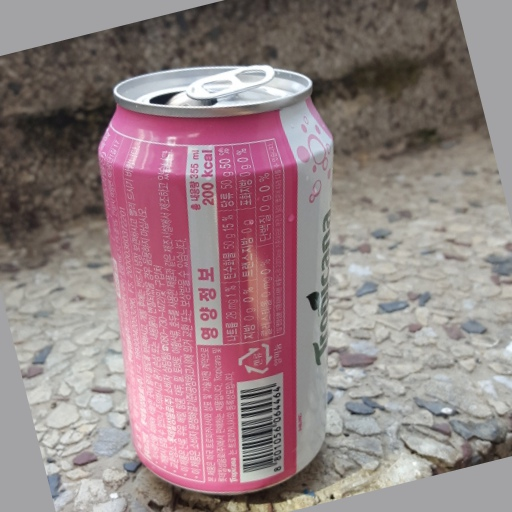Metal_0: (97, 63, 336, 496)
